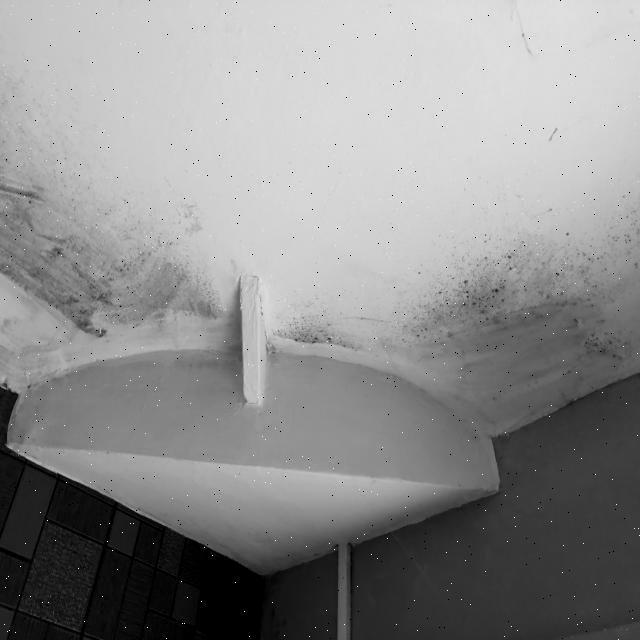stain marks: (0, 145, 223, 350), (435, 192, 640, 378), (261, 285, 434, 371), (440, 376, 610, 439), (0, 56, 94, 146), (388, 228, 433, 284)
